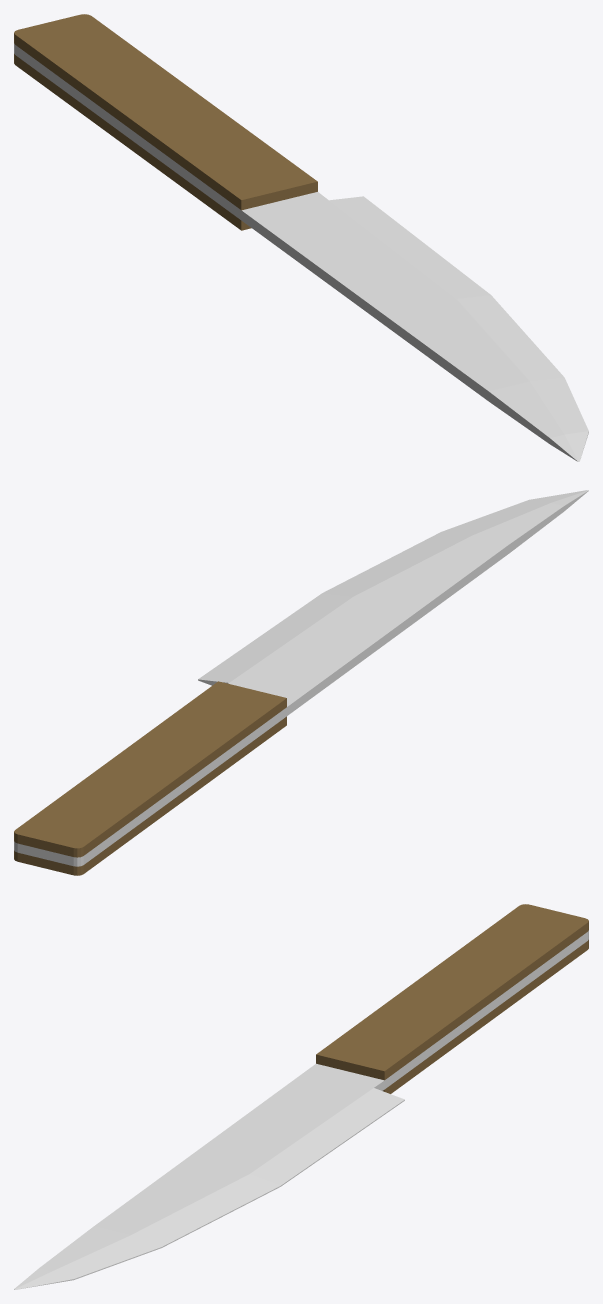
The model's file is Knife.fbx.
3 views of the same model, one above another, from view 1: azimuth 30°, elevation 25°; view 2: azimuth 150°, elevation 25°; view 3: azimuth 330°, elevation 25° (orthographic). The views are drawn at different scales.
Visible parts, largest first — view 1: Knife; view 2: Knife; view 3: Knife.
Part boxes in pixels (<box>): Knife: <box>14,14,588,461</box>; Knife: <box>14,490,588,875</box>; Knife: <box>14,904,588,1289</box>.
Size of the model in its own units: 19.58 by 5.16 by 174.
